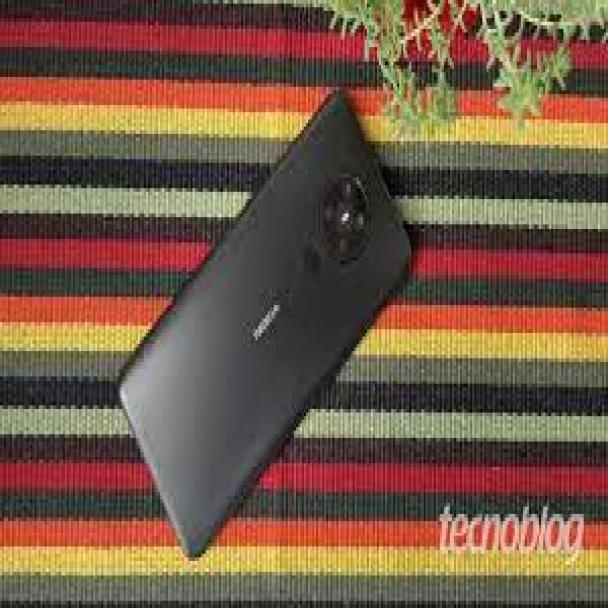Handphone: (111, 85, 417, 572)
